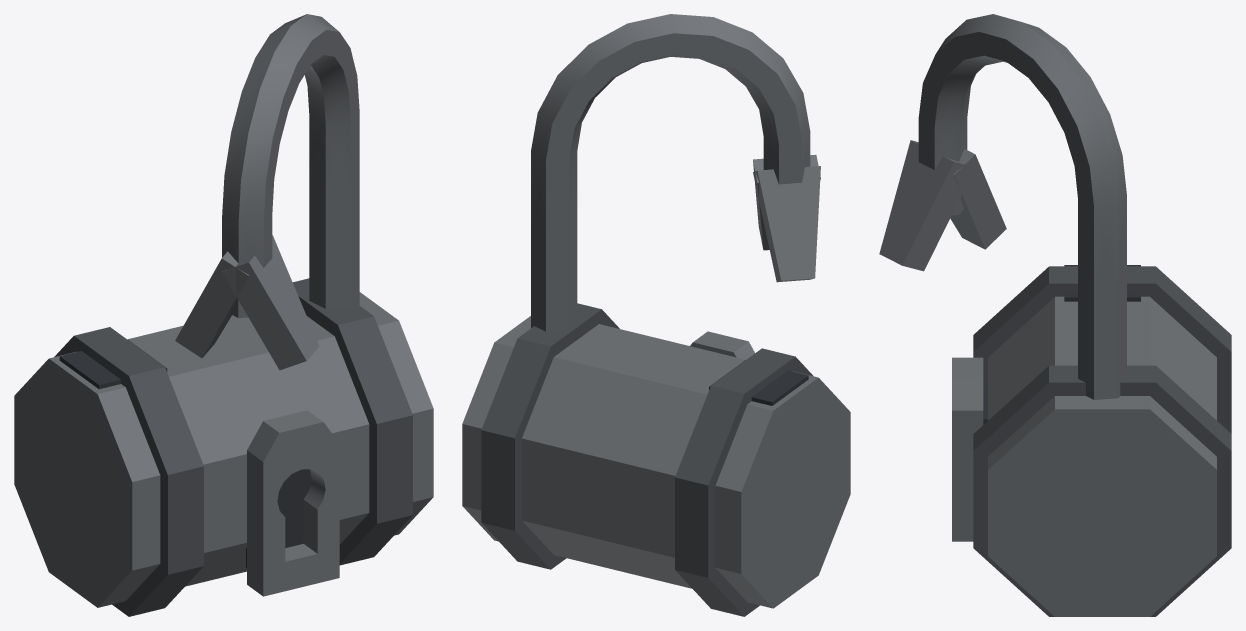
File: SM_LPD_Door_DoorFittingPadlock_01.fbx
The picture shows the model from 3 angles, left to right: view 1: azimuth 30°, elevation 25°; view 2: azimuth 150°, elevation 25°; view 3: azimuth 270°, elevation 25°; orthographic projection. The views are drawn at different scales.
Parts seen in each view (by area): view 1: SM_LPD_Door_DoorFittingPadlock_01; view 2: SM_LPD_Door_DoorFittingPadlock_01; view 3: SM_LPD_Door_DoorFittingPadlock_01.
Boxes of the visible parts, box(x1,y1,x2,y2) form: SM_LPD_Door_DoorFittingPadlock_01: box(14, 14, 433, 616); SM_LPD_Door_DoorFittingPadlock_01: box(462, 14, 850, 616); SM_LPD_Door_DoorFittingPadlock_01: box(879, 14, 1231, 616).
Bounding box in the file's own units: 0.15 × 0.2685 × 0.1563.
